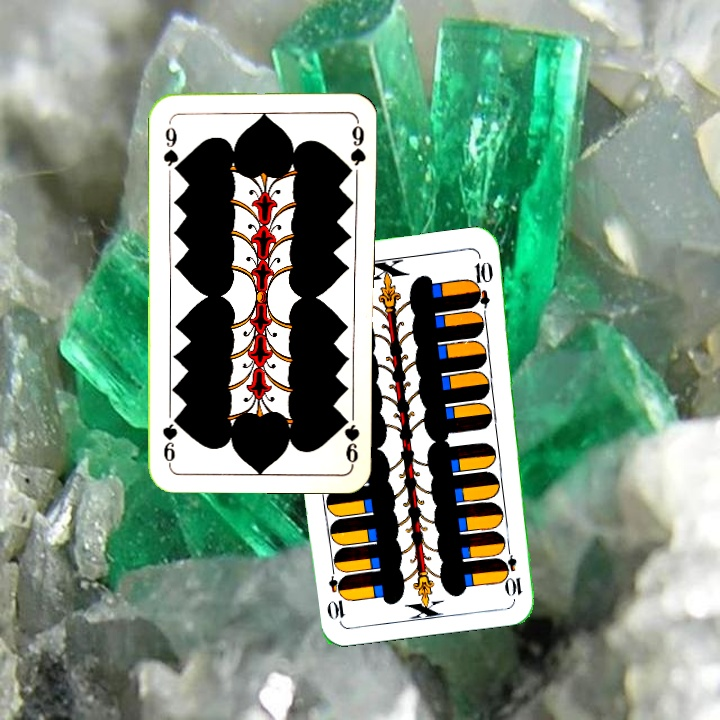E10: (500, 540, 525, 599)
G9: (159, 123, 182, 176), (340, 413, 362, 467)
